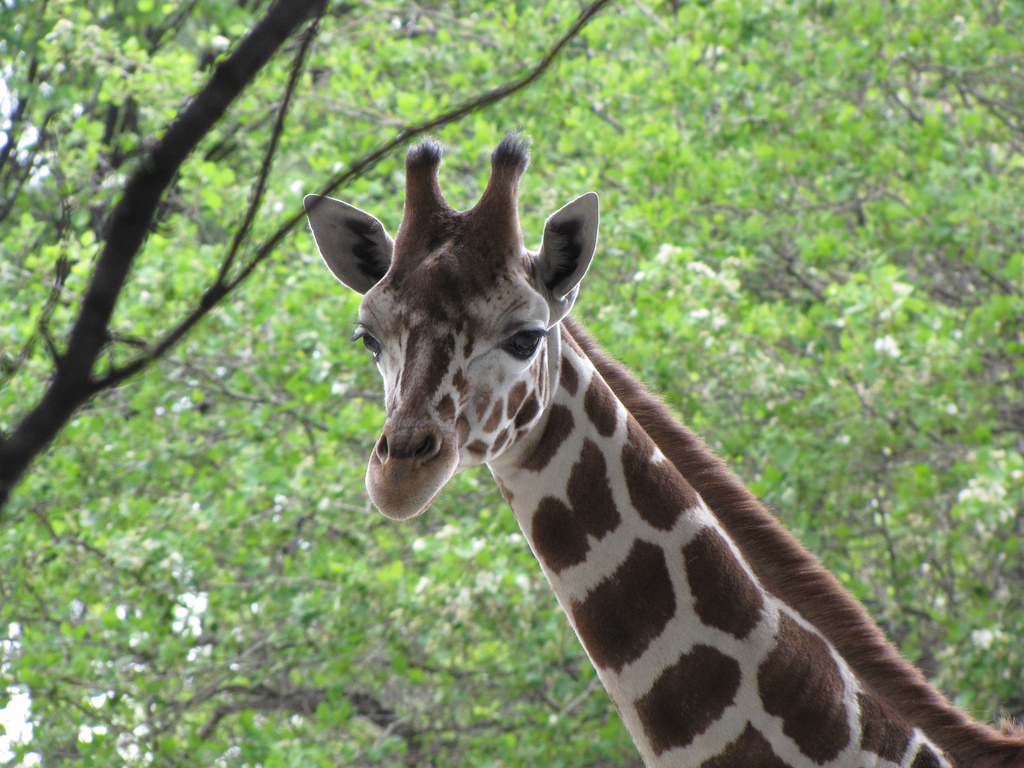giraffe: (317, 139, 930, 728)
